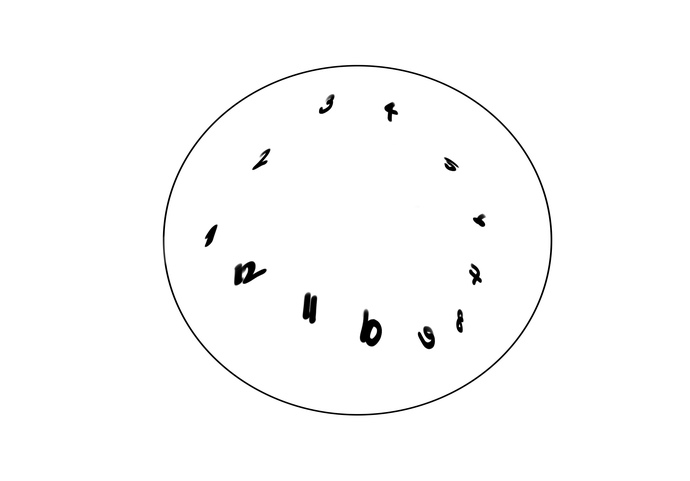eight: (451, 306, 469, 336)
eleven: (302, 289, 320, 327)
five: (441, 152, 463, 175)
four: (383, 99, 402, 127)
nine: (414, 321, 439, 350)
one: (202, 220, 220, 251)
seven: (466, 256, 488, 294)
six: (471, 207, 489, 229)
ten: (358, 306, 382, 351)
three: (318, 91, 335, 116)
twelve: (229, 258, 269, 285)
two: (249, 145, 273, 172)
